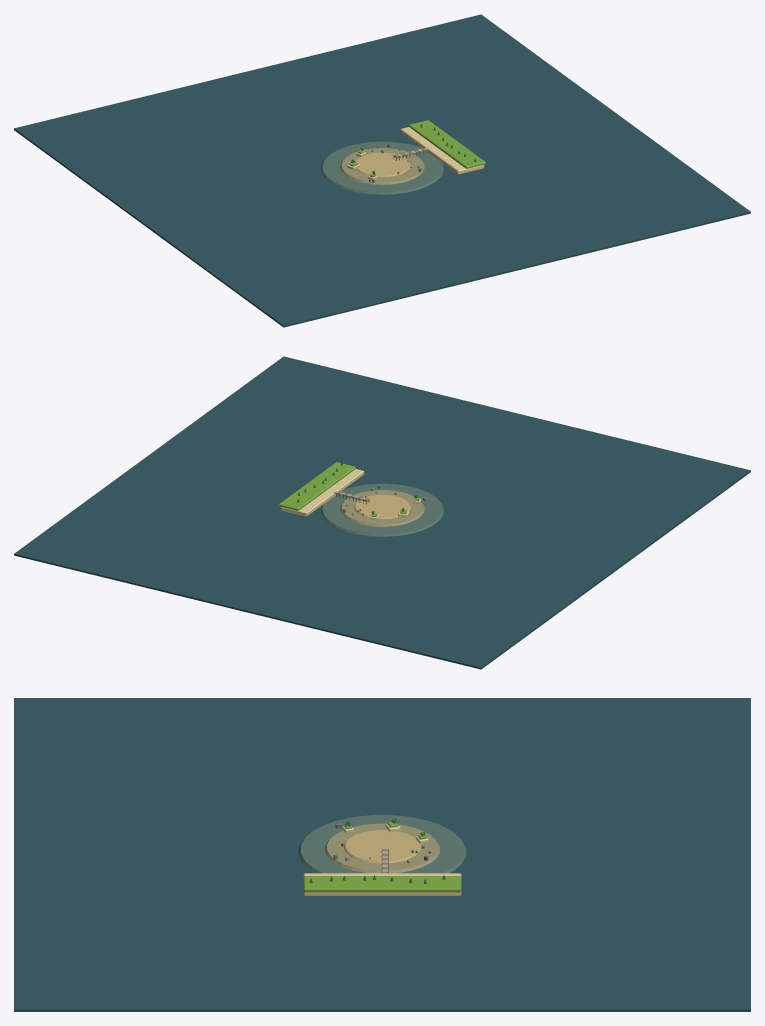
Rendered from surround-sea.glb.
3 views of the same model, one above another, from view 1: azimuth 30°, elevation 25°; view 2: azimuth 150°, elevation 25°; view 3: azimuth 270°, elevation 25° (orthographic). The views are drawn at different scales.
Parts seen in each view (by area): view 1: surround-sea; view 2: surround-sea; view 3: surround-sea.
Boxes of the visible parts, box(x1,y1,x2,y2) form: surround-sea: box(14, 14, 750, 327); surround-sea: box(14, 356, 750, 669); surround-sea: box(14, 698, 750, 1011).
Bounding box in the file's own units: 140 × 4.74 × 140.
